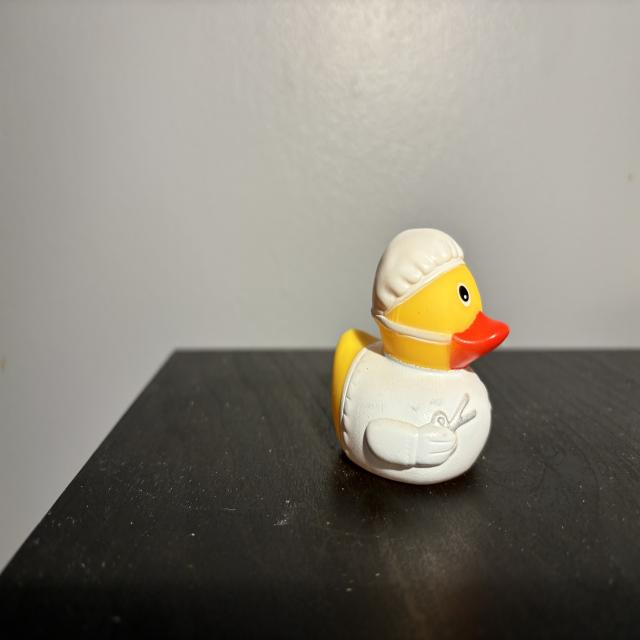duck_specialty: (333, 229, 511, 487)
